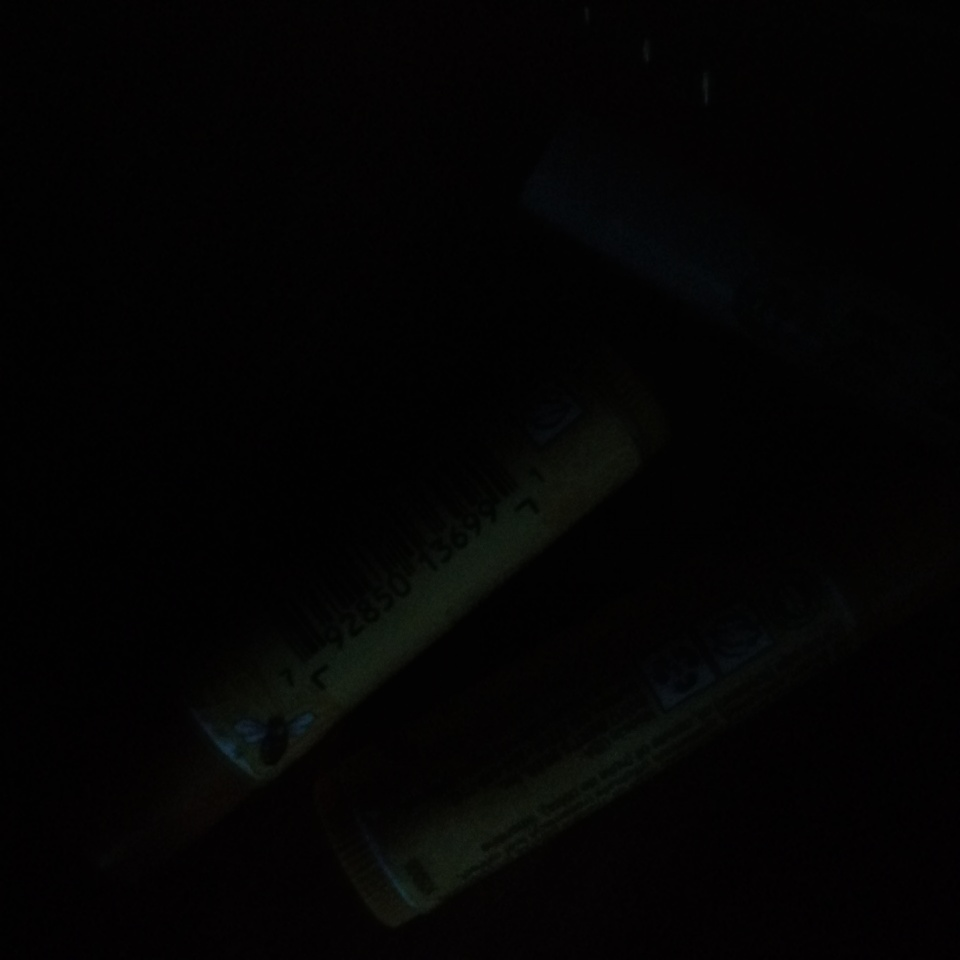chapstick: (333, 557, 874, 935), (181, 382, 651, 783)
